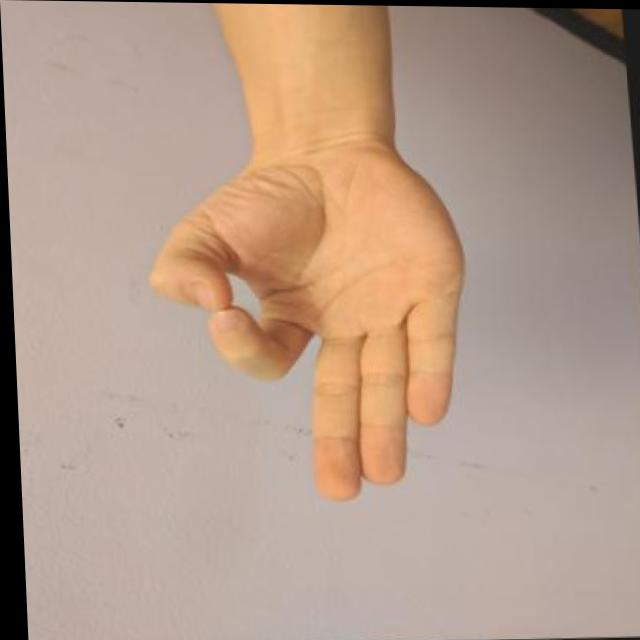F: (132, 127, 486, 517)
